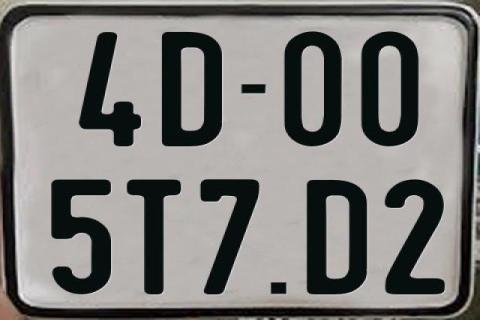0: (382, 177, 448, 295), (284, 30, 348, 150), (200, 177, 264, 295), (48, 179, 113, 295), (78, 32, 141, 150), (360, 31, 421, 147)
D: (306, 178, 368, 298), (162, 31, 224, 148)
T: (124, 177, 180, 293)
